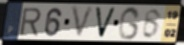6: (141, 9, 163, 40), (44, 6, 63, 37)
G: (116, 5, 142, 41)
R: (18, 7, 43, 37)
V: (70, 5, 96, 40), (94, 6, 118, 40)
